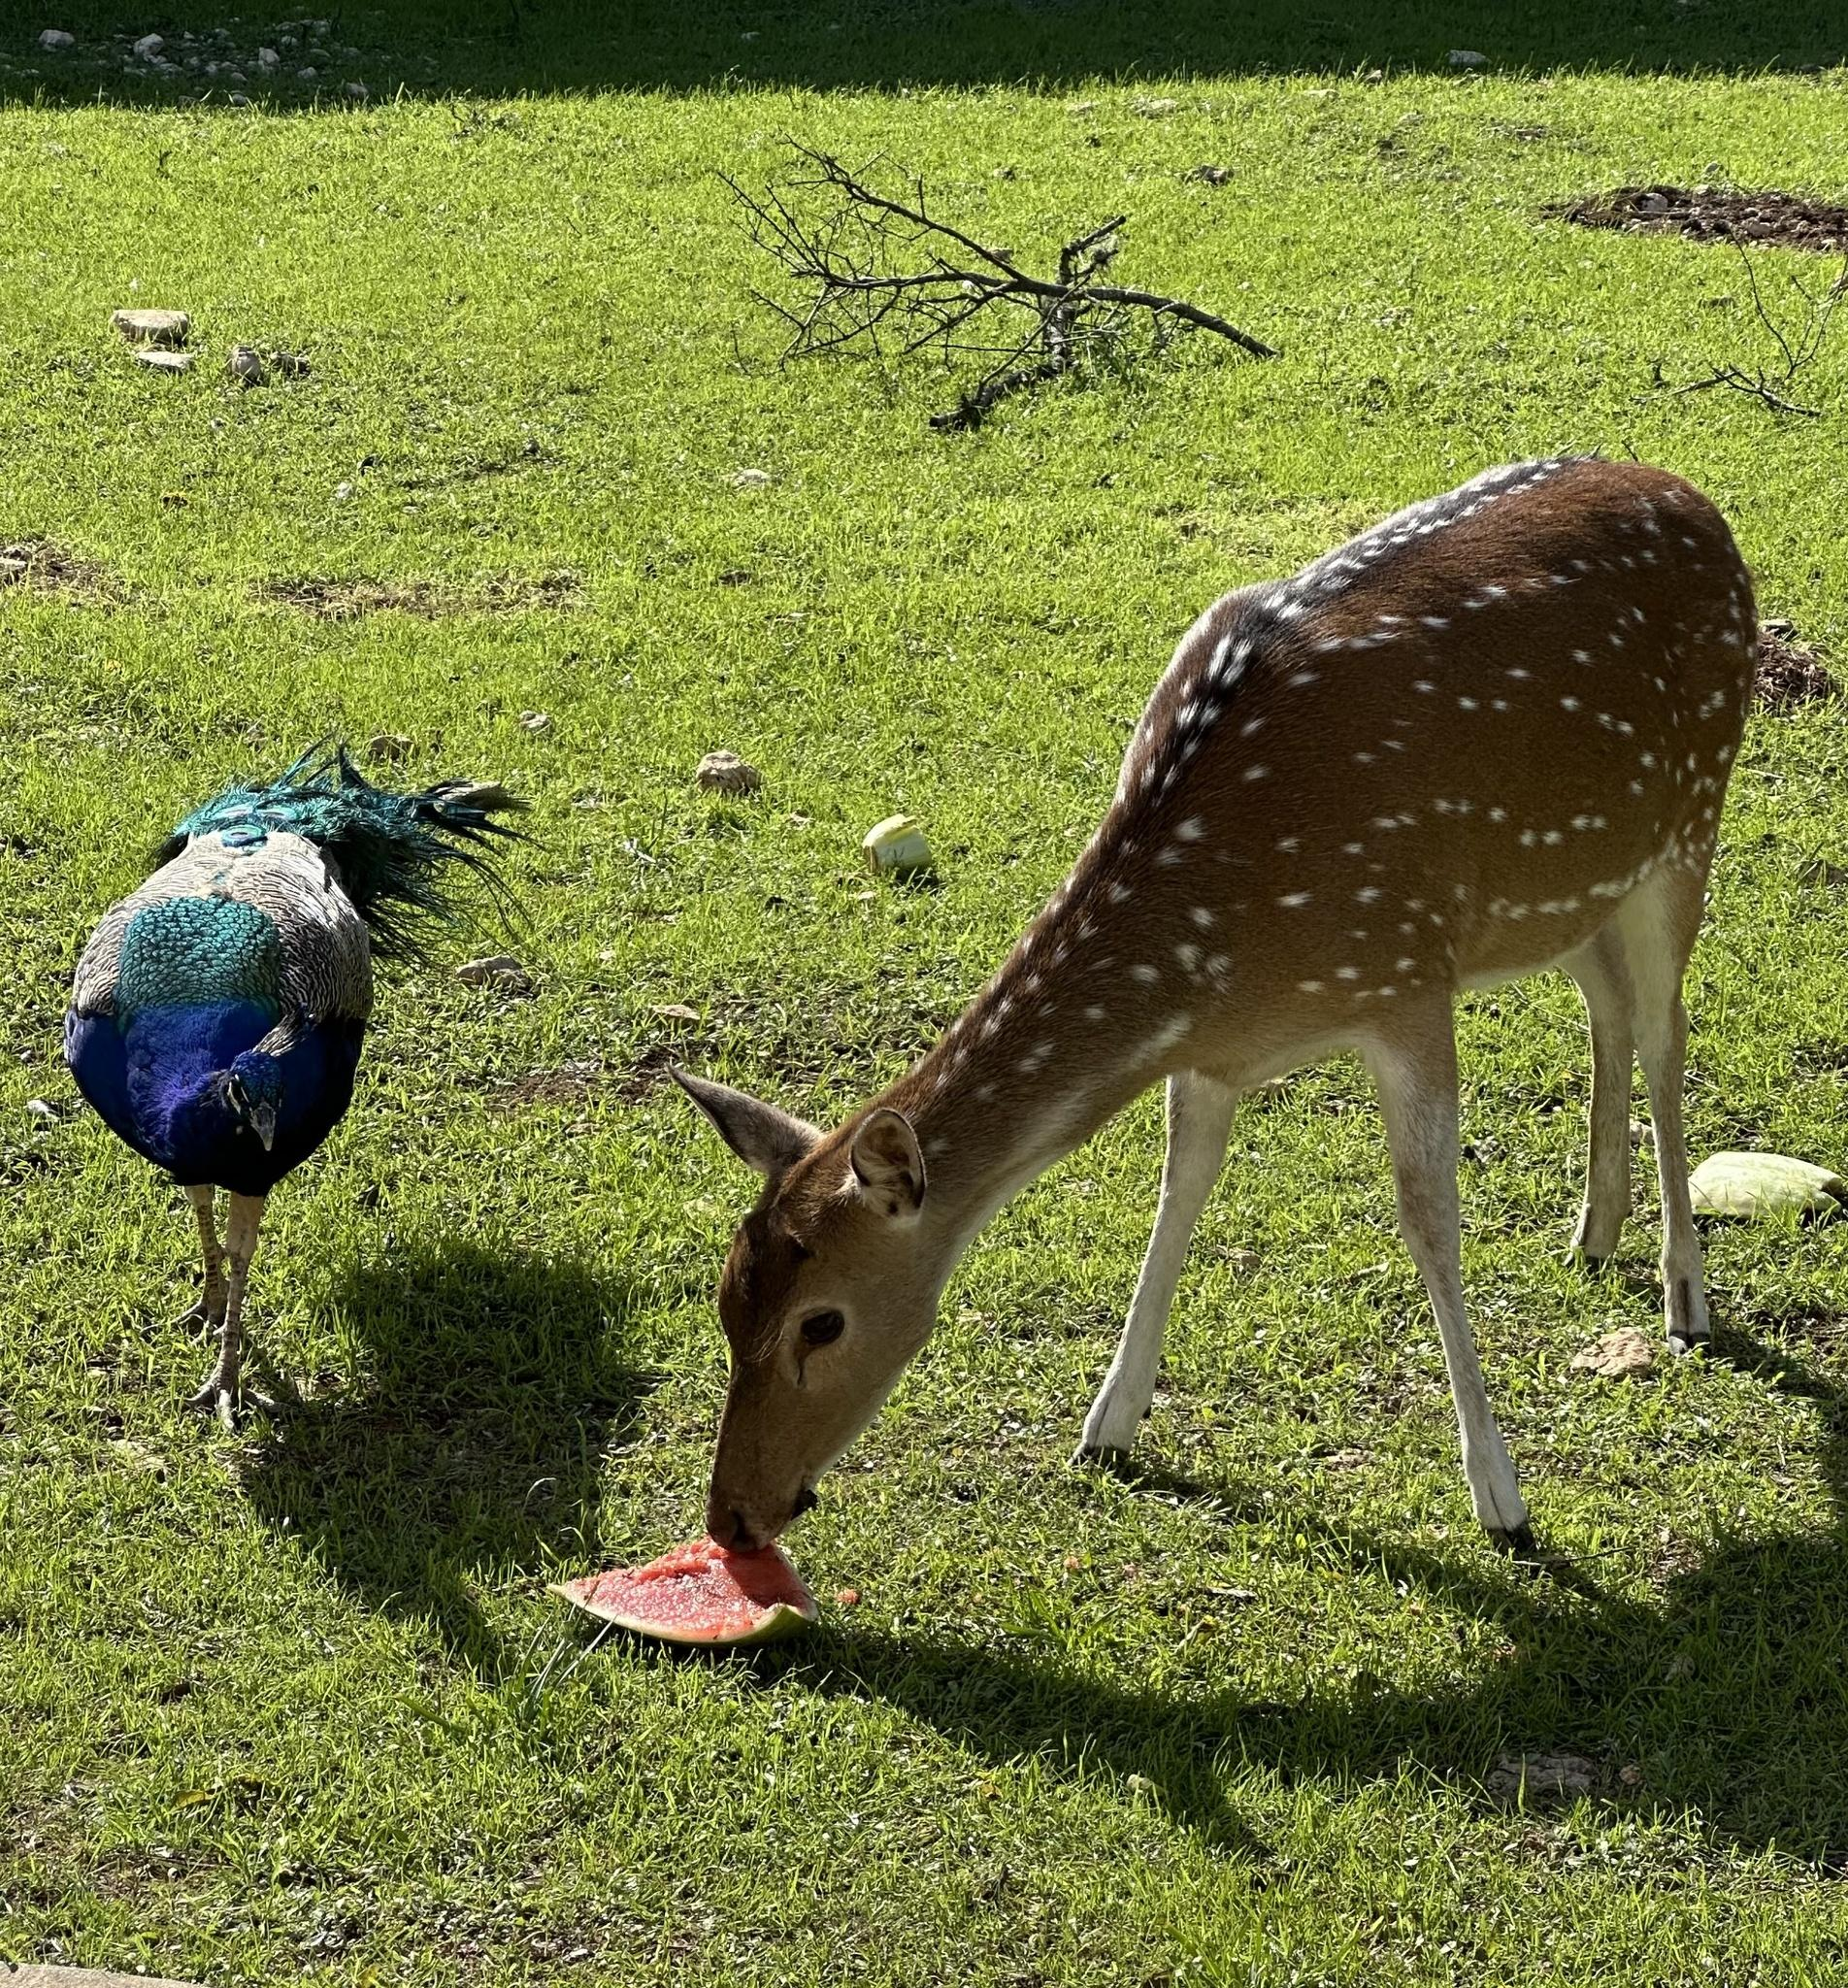Deer: (681, 458, 1756, 1556)
